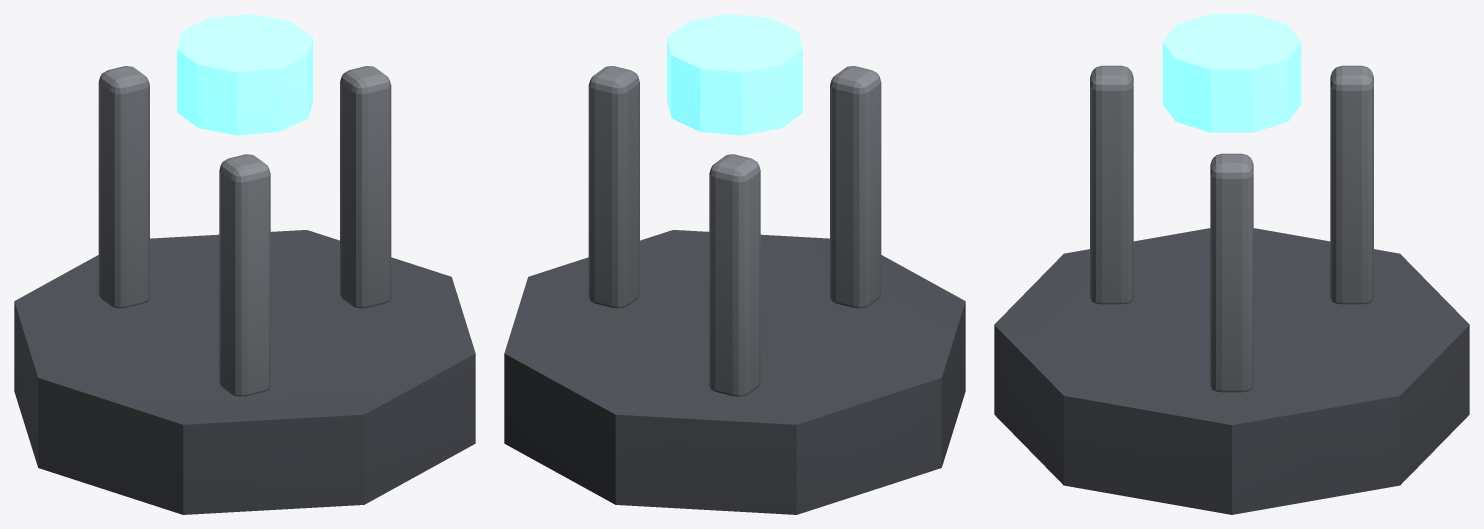
File: sensor_puck.glb
3 renders of one model, left to right at view 1: azimuth 30°, elevation 25°; view 2: azimuth 150°, elevation 25°; view 3: azimuth 270°, elevation 25°, orthographic.
Parts seen in each view (by area): view 1: sensor_puck; view 2: sensor_puck; view 3: sensor_puck.
Part boxes in pixels (x1,y1,x2,y2): sensor_puck: [14, 14, 475, 514]; sensor_puck: [504, 14, 965, 514]; sensor_puck: [994, 14, 1469, 514].
Bounding box in the file's own units: 0.24 × 0.2075 × 0.24.
